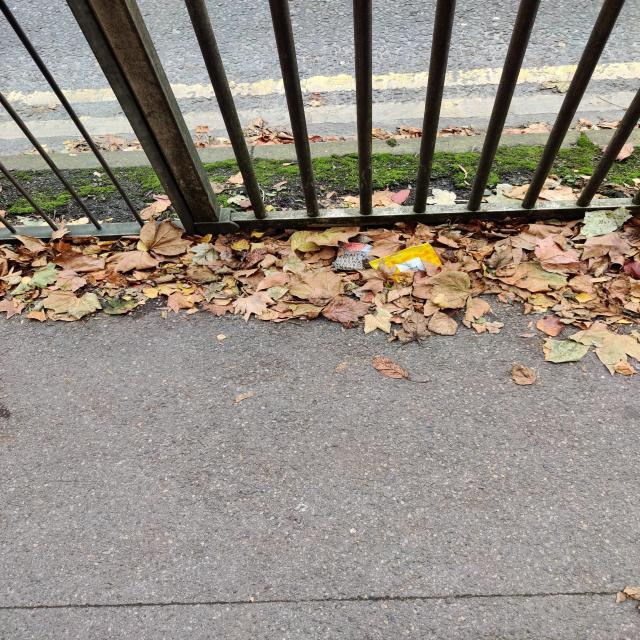litter: (287, 225, 467, 312)
